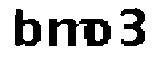3: (118, 4, 150, 50)
D: (90, 16, 114, 49)
b: (11, 9, 43, 49)
m: (46, 14, 92, 49)
